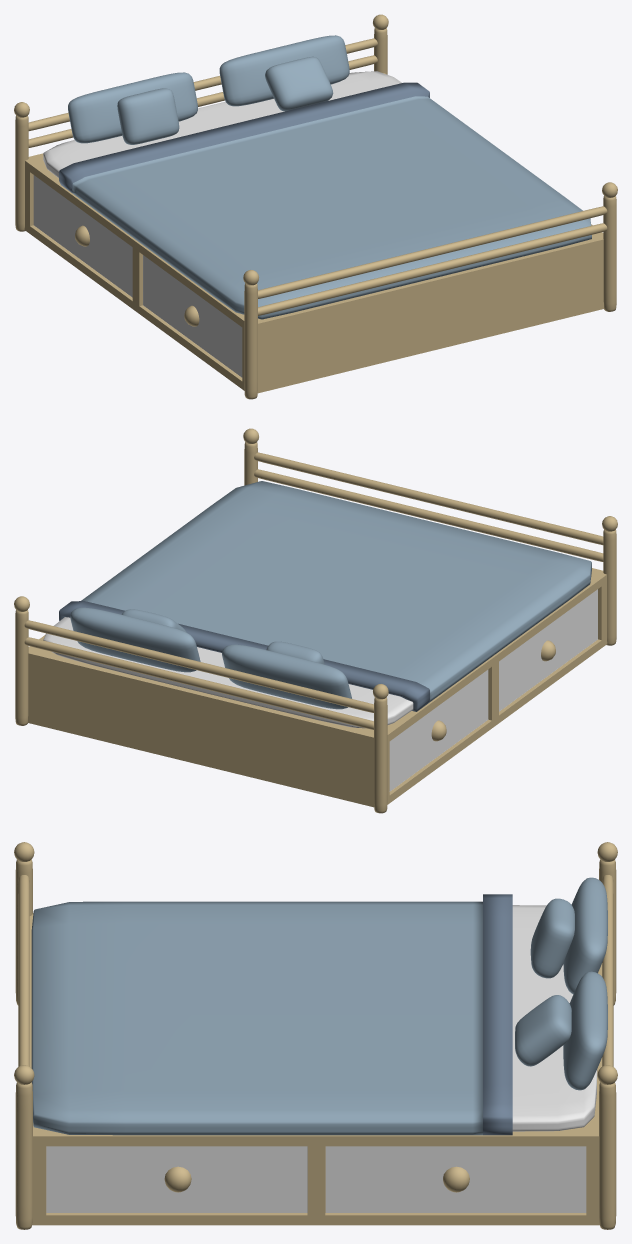
Rendered from Cama2x2.fbx.
The picture shows the model from 3 angles, top to bottom: view 1: azimuth 30°, elevation 25°; view 2: azimuth 150°, elevation 25°; view 3: azimuth 270°, elevation 25°; orthographic projection. The views are drawn at different scales.
Parts seen in each view (by area): view 1: Cube.008, cama, Sphere.001, Cube.009, almohadagrande.004, almohadagrande.001, almohadagrande.002, almohadagrande.003; view 2: Cube.008, cama, Sphere.001, almohadagrande.001, almohadagrande.004, Cube.009, almohadagrande.002, almohadagrande.003; view 3: Cube.008, cama, Sphere.001, Cube.009, almohadagrande.004, almohadagrande.001, almohadagrande.003, almohadagrande.002.
Part boxes in pixels (bbox=[...]): Cube.008: bbox=[59, 82, 591, 319]; cama: bbox=[24, 73, 604, 393]; Sphere.001: bbox=[14, 14, 617, 399]; Cube.009: bbox=[43, 71, 401, 177]; almohadagrande.004: bbox=[219, 35, 349, 106]; almohadagrande.001: bbox=[68, 72, 197, 143]; almohadagrande.002: bbox=[117, 88, 179, 144]; almohadagrande.003: bbox=[265, 56, 333, 111]; Cube.008: bbox=[59, 481, 591, 711]; cama: bbox=[27, 568, 607, 807]; Sphere.001: bbox=[14, 428, 617, 813]; almohadagrande.001: bbox=[222, 644, 351, 709]; almohadagrande.004: bbox=[70, 607, 200, 672]; Cube.009: bbox=[43, 617, 413, 728]; almohadagrande.002: bbox=[266, 641, 324, 664]; almohadagrande.003: bbox=[122, 609, 186, 632]; Cube.008: bbox=[31, 894, 512, 1135]; cama: bbox=[29, 913, 602, 1225]; Sphere.001: bbox=[14, 842, 617, 1229]; Cube.009: bbox=[512, 905, 597, 1131]; almohadagrande.004: bbox=[563, 971, 607, 1090]; almohadagrande.001: bbox=[563, 877, 607, 994]; almohadagrande.003: bbox=[515, 995, 571, 1066]; almohadagrande.002: bbox=[530, 898, 574, 978].
Bounding box in the file's own units: 153 × 49.73 × 168.
